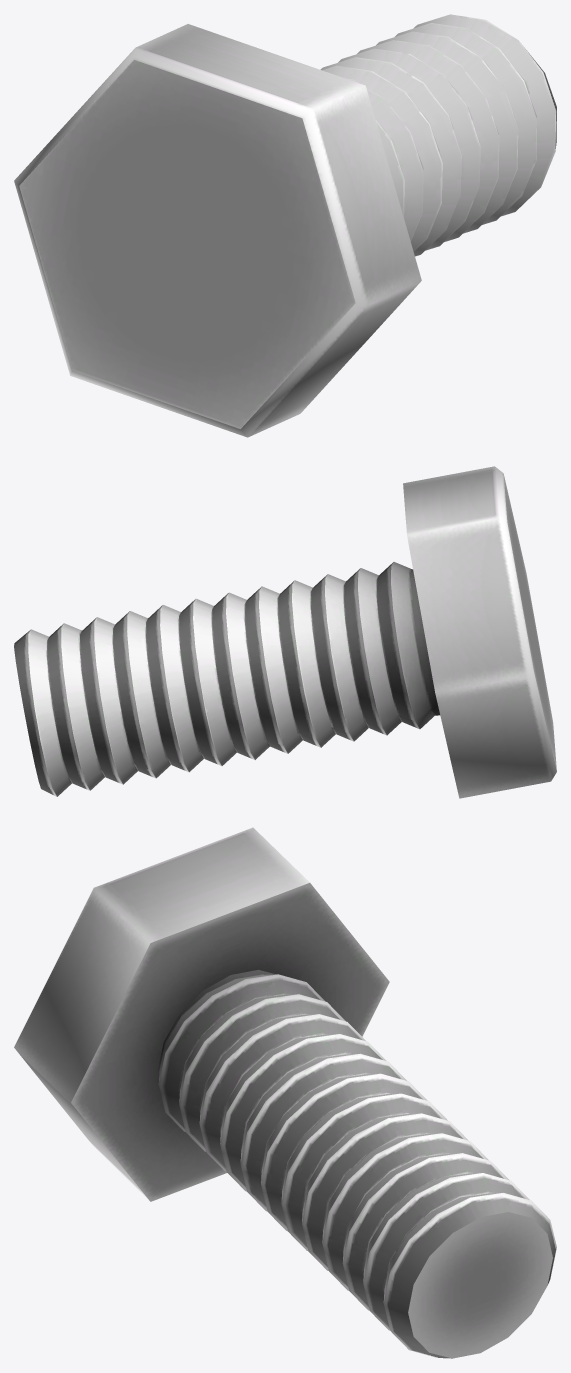
Rendered from nut.fbx.
3 views of the same model, one above another, from view 1: azimuth 30°, elevation 25°; view 2: azimuth 150°, elevation 25°; view 3: azimuth 270°, elevation 25° (orthographic). The views are drawn at different scales.
Visible parts, largest first — view 1: nut; view 2: nut; view 3: nut.
Boxes of the visible parts, x1,y1,x2,y2 form: nut: [14, 14, 556, 437]; nut: [14, 466, 556, 798]; nut: [14, 827, 556, 1358].
Size of the model in its own units: 0.1466 by 0.0857 by 0.1268.
Materials: 1 (1 with a texture image).
